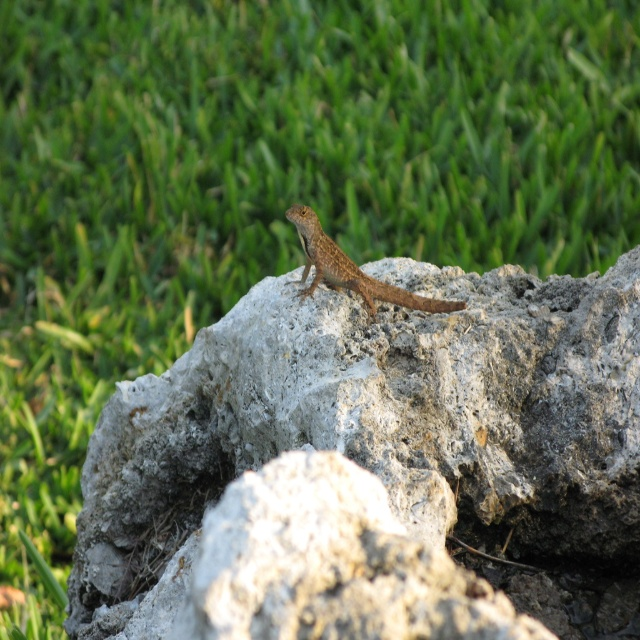Lizard: (281, 191, 461, 339)
